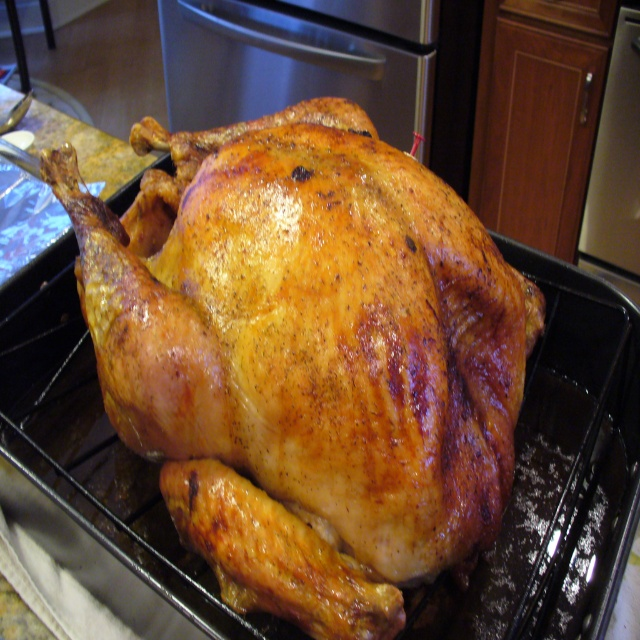Turkey: (39, 95, 547, 640)
